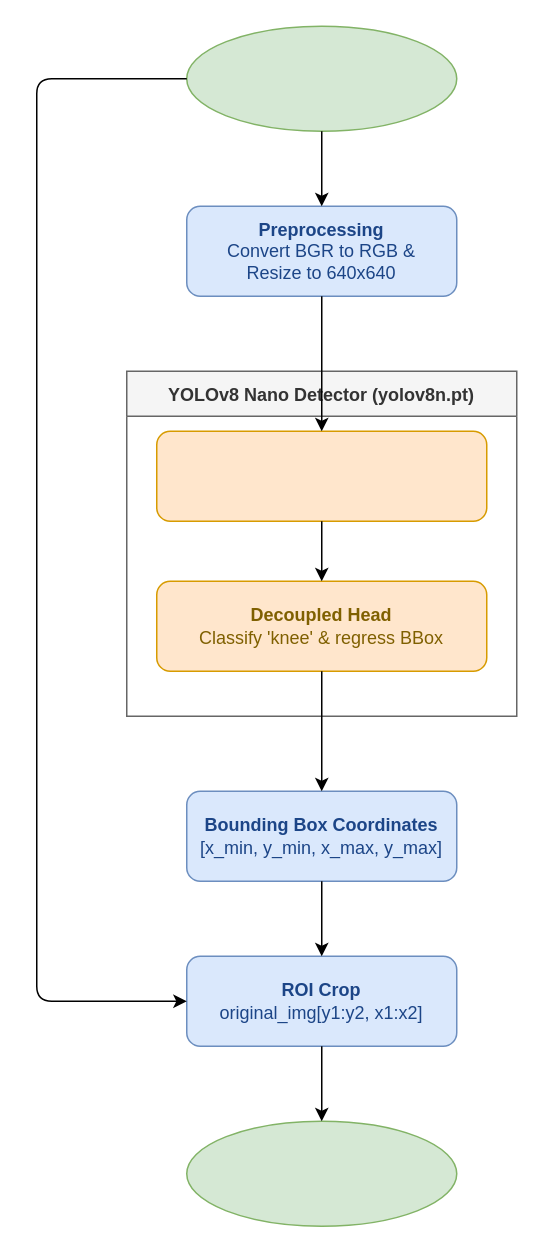
This 543x1253 diagram has some shape labels left out. Here are the shapes that lost their labels. From the top down, the centre of each, then its label:
At pixel 321 78: "Input Wide-View X-Ray Raw grayscale or BGR image".
At pixel 321 475: "CSPDarknet Backbone Multi-scale feature extraction".
At pixel 321 1173: "Cropped Knee ROI Standardized joint image".
